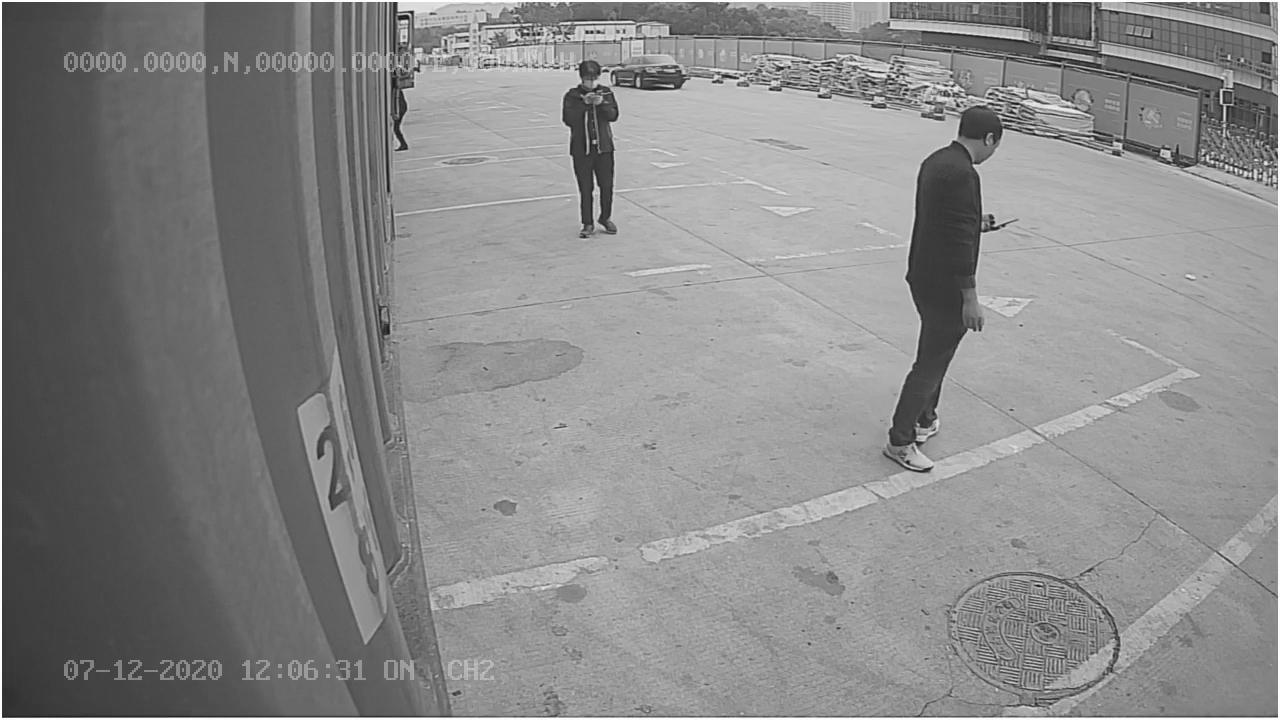person: (877, 94, 1008, 476)
